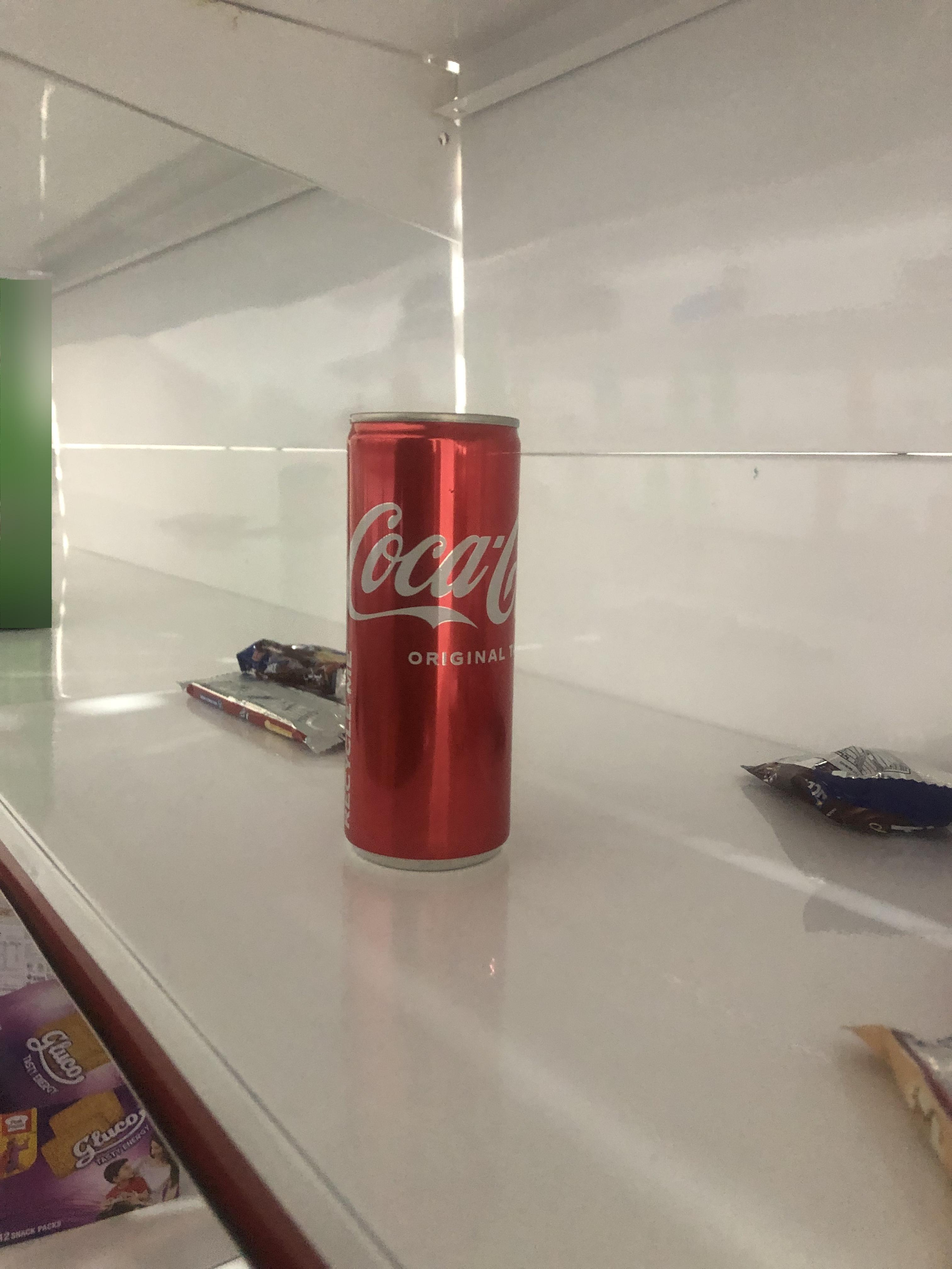tin can: (339, 400, 528, 876)
